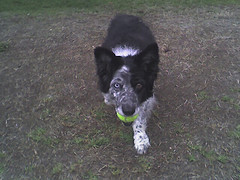tennis ball: (117, 110, 139, 124)
